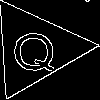Q: (10, 23, 58, 74)
